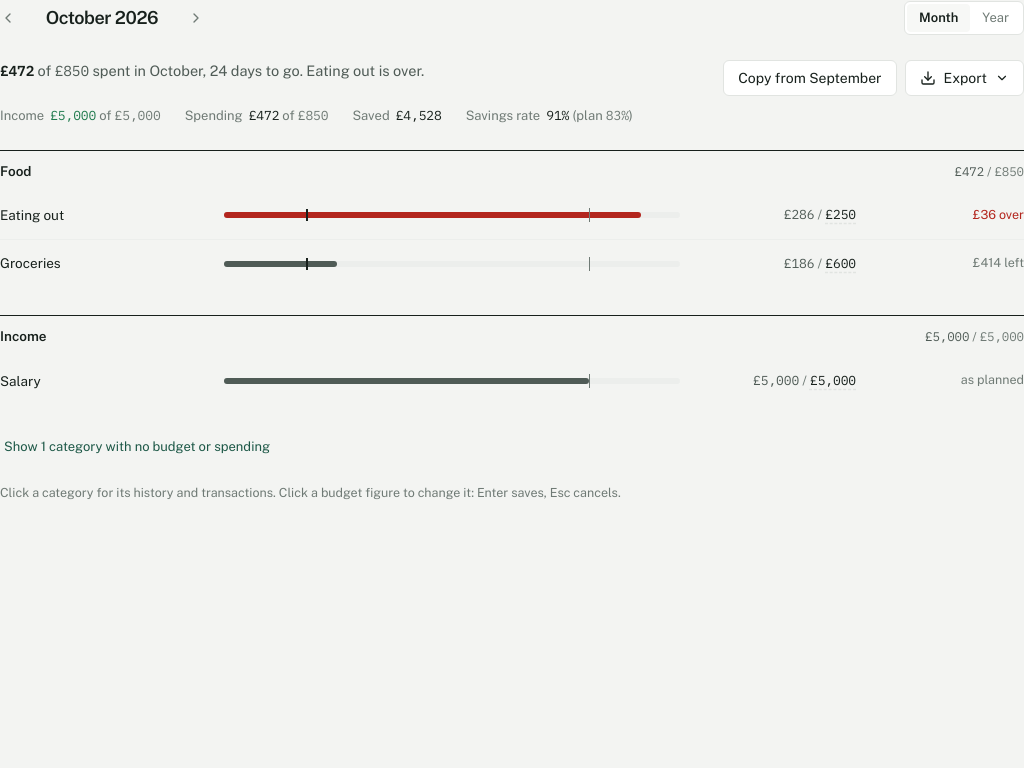
Test: BudgetsView › asks before copying last month over a month that already has budgets
Expected: the text "24 days to go" is shown, [203,62,300,79]
Click the button "Copy from September" at (810, 78), box [723,60,896,96]
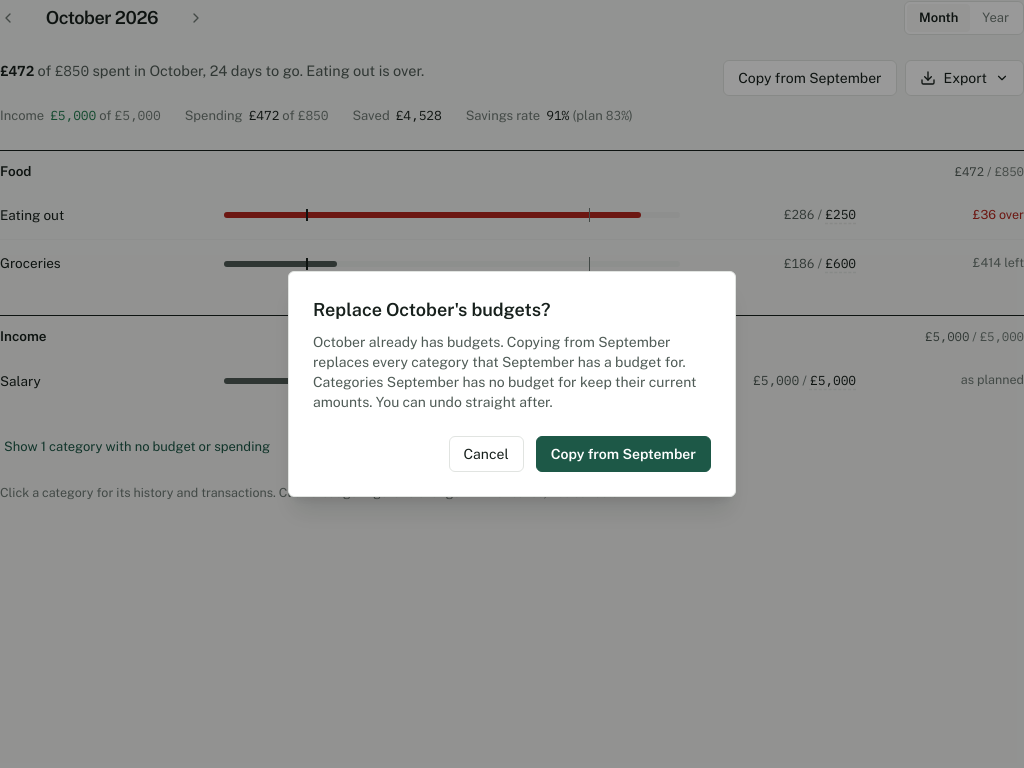
Now the heading "Replace October's budgets?" is shown, box [313,299,550,320]
Click the button "Copy from September" at (623, 454), box [536,436,711,472]
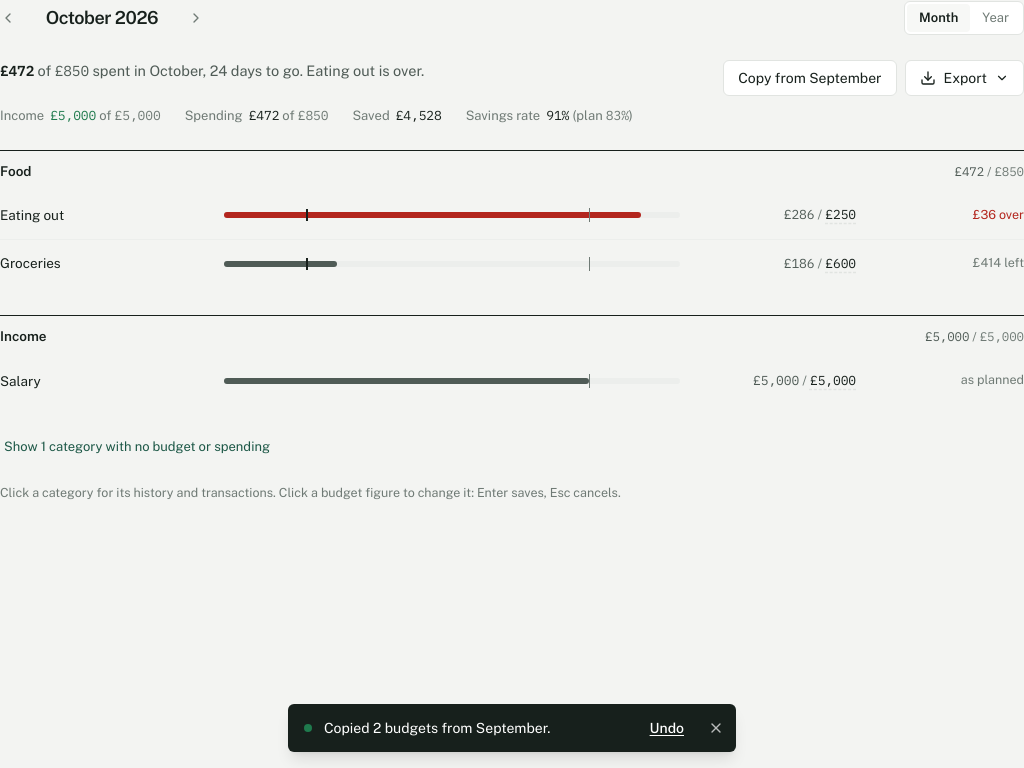
Now the text "Copied 2 budgets from September." is shown, box [324,720,550,736]
